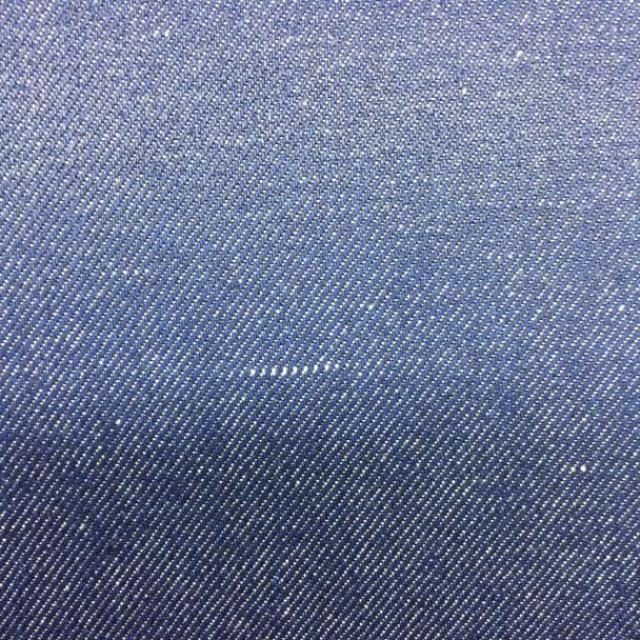Knot: (243, 362, 341, 378)
